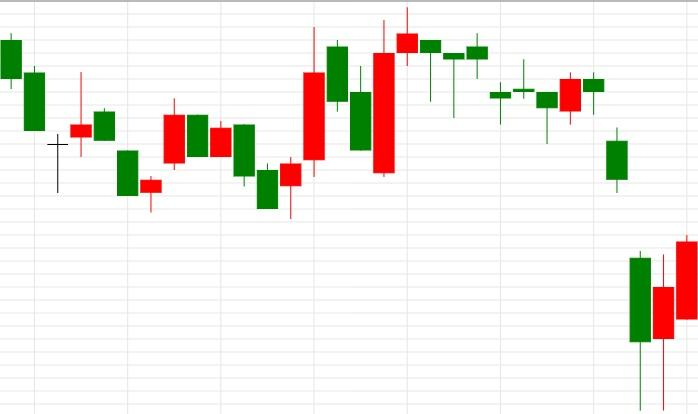hammer_rise: (396, 7, 559, 143)
hanging_man_fall: (349, 7, 442, 177)
